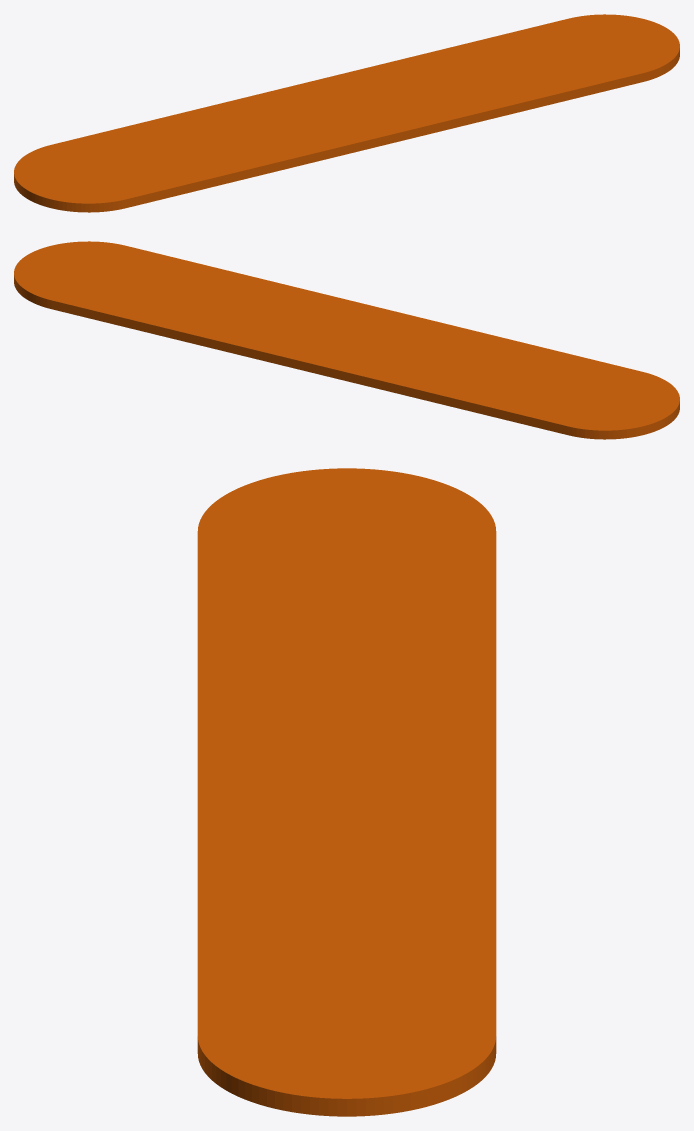
Rendered from sciezka.fbx.
3 views of the same model, one above another, from view 1: azimuth 30°, elevation 25°; view 2: azimuth 150°, elevation 25°; view 3: azimuth 270°, elevation 25° (orthographic). The views are drawn at different scales.
Parts seen in each view (by area): view 1: Sciezka; view 2: Sciezka; view 3: Sciezka.
Boxes of the visible parts, x1,y1,x2,y2 form: Sciezka: [14, 14, 679, 212]; Sciezka: [14, 241, 679, 439]; Sciezka: [197, 468, 496, 1116].
Bounding box in the file's own units: 76.2 × 1 × 15.24.
